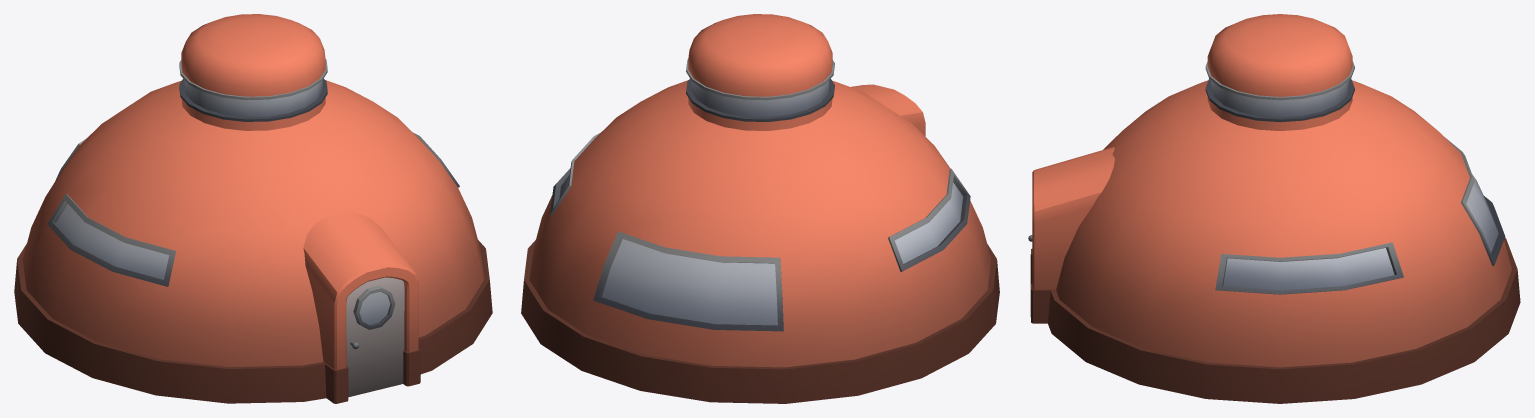
Rendered from SM_House_02.fbx.
3 renders of one model, left to right at view 1: azimuth 30°, elevation 25°; view 2: azimuth 150°, elevation 25°; view 3: azimuth 270°, elevation 25°, orthographic.
Parts seen in each view (by area): view 1: House_02; view 2: House_02; view 3: House_02.
Boxes of the visible parts, <box> form: House_02: <box>14,14,492,403</box>; House_02: <box>521,14,999,403</box>; House_02: <box>1028,14,1520,403</box>.
Size of the model in its own units: 606 by 378 by 620.
